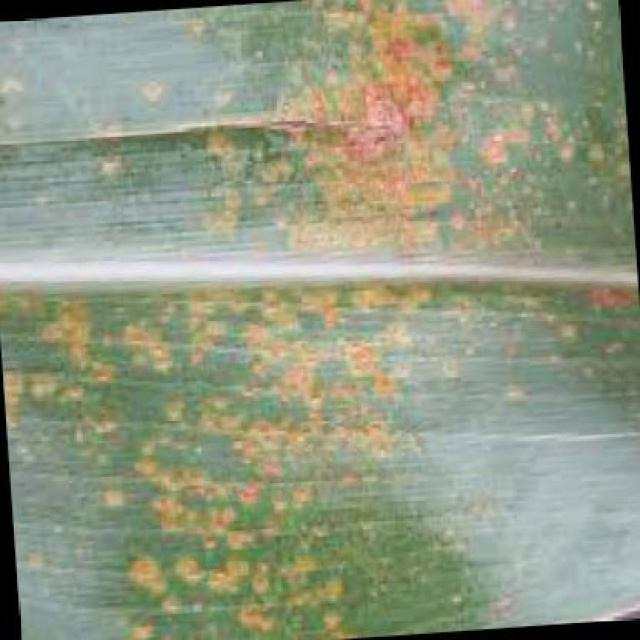Corn_Rust: (41, 27, 612, 602)
